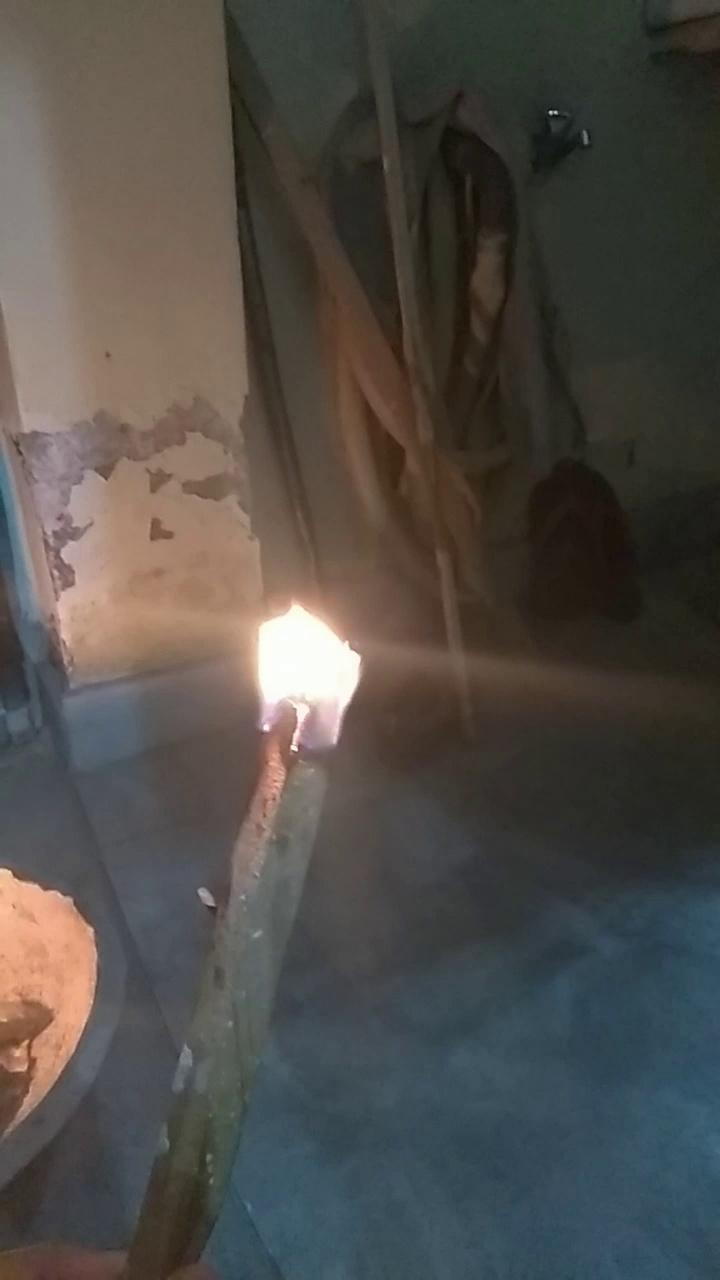fire: (228, 570, 363, 742)
